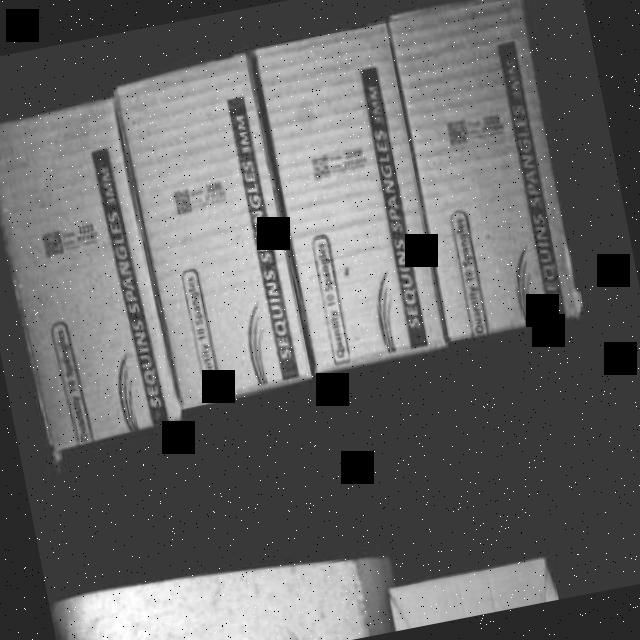box: (254, 26, 456, 384), (0, 96, 190, 448), (393, 0, 586, 339), (118, 60, 312, 397)
